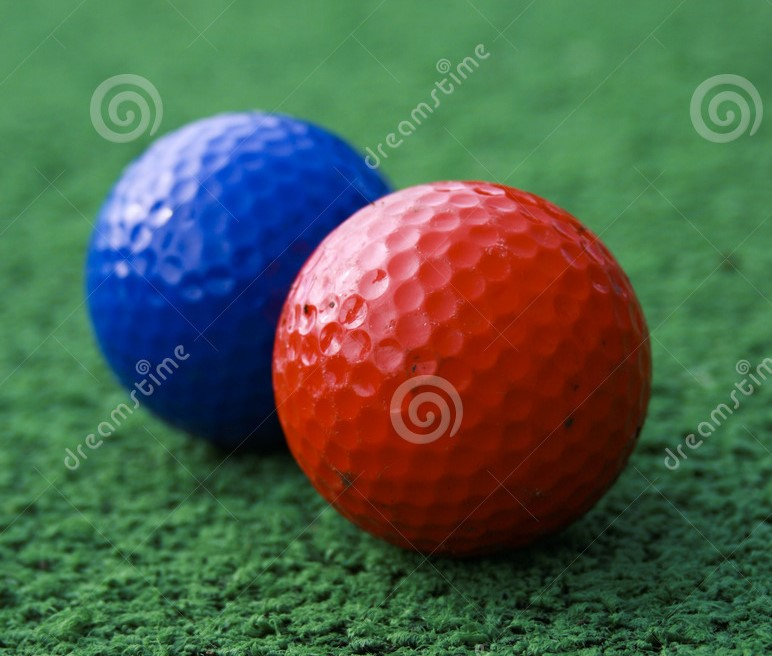blue ball: (82, 109, 398, 453)
red ball: (267, 179, 656, 556)
